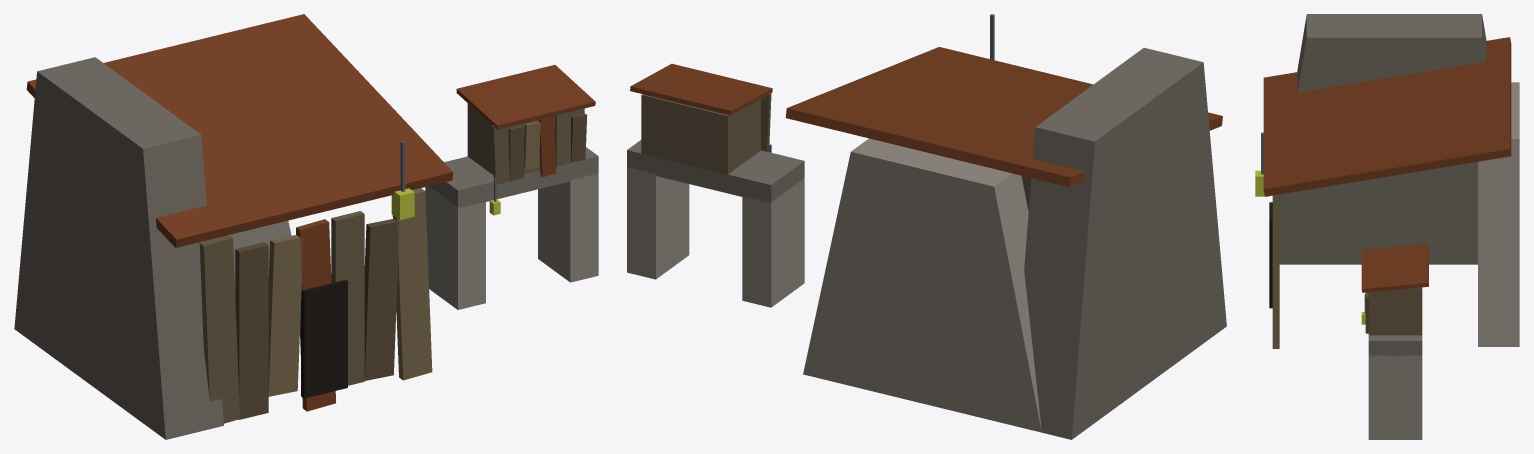
Rendered from ratfolk_hall.glb.
3 views of the same model, side by side, from view 1: azimuth 30°, elevation 25°; view 2: azimuth 150°, elevation 25°; view 3: azimuth 270°, elevation 25° (orthographic). The views are drawn at different scales.
Parts seen in each view (by area): view 1: ratfolk_hall; view 2: ratfolk_hall; view 3: ratfolk_hall.
Boxes of the visible parts, left/top/right/bottom form: ratfolk_hall: left=14, top=14, right=598, bottom=439; ratfolk_hall: left=627, top=14, right=1226, bottom=439; ratfolk_hall: left=1255, top=14, right=1519, bottom=439.
Bounding box in the file's own units: 4.9 × 2.69 × 2.76.
